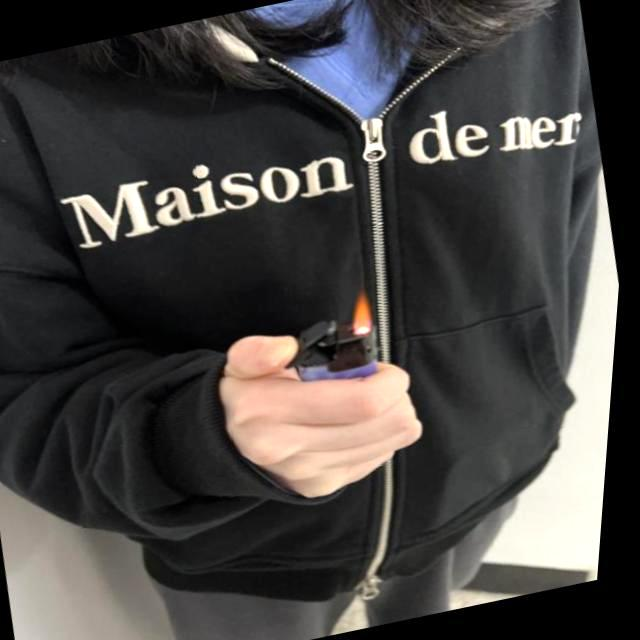fire: (347, 285, 381, 335)
